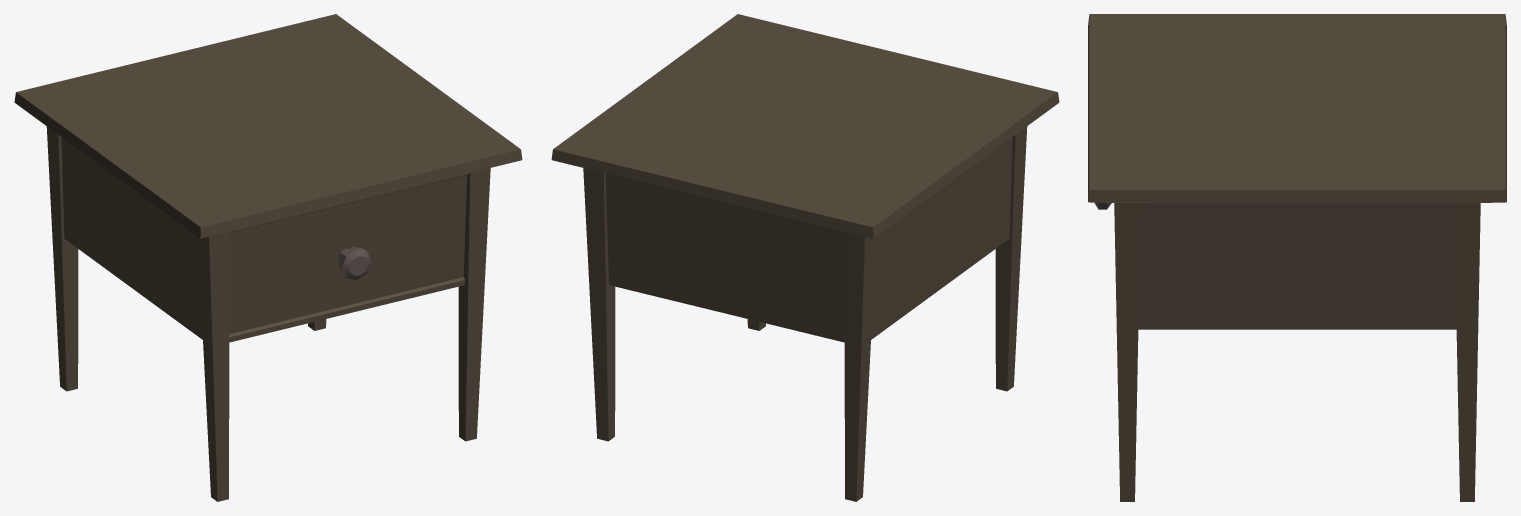
File: NightStand_1.glb
The picture shows the model from 3 angles, left to right: view 1: azimuth 30°, elevation 25°; view 2: azimuth 150°, elevation 25°; view 3: azimuth 270°, elevation 25°; orthographic projection. The views are drawn at different scales.
Parts seen in each view (by area): view 1: NightStand_1; view 2: NightStand_1; view 3: NightStand_1.
Boxes of the visible parts, x1,y1,x2,y2 form: NightStand_1: [14, 14, 522, 501]; NightStand_1: [551, 14, 1059, 501]; NightStand_1: [1088, 14, 1506, 501].
Bounding box in the file's own units: 0.4656 × 0.4034 × 0.4656.
2 materials, 2 textured.
